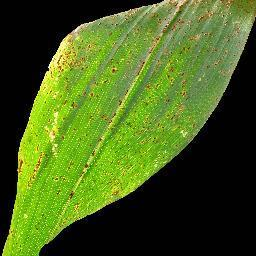Corn_Common_Rust: (7, 0, 256, 143), (0, 143, 197, 256)
